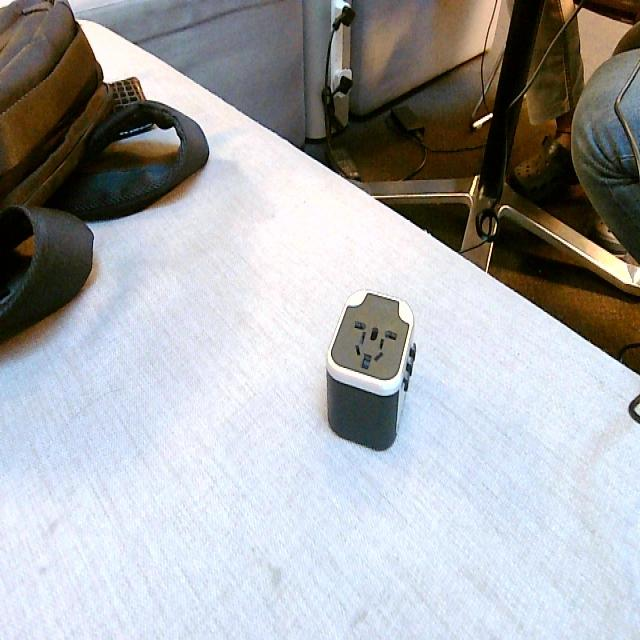adapter: (324, 288, 417, 451)
